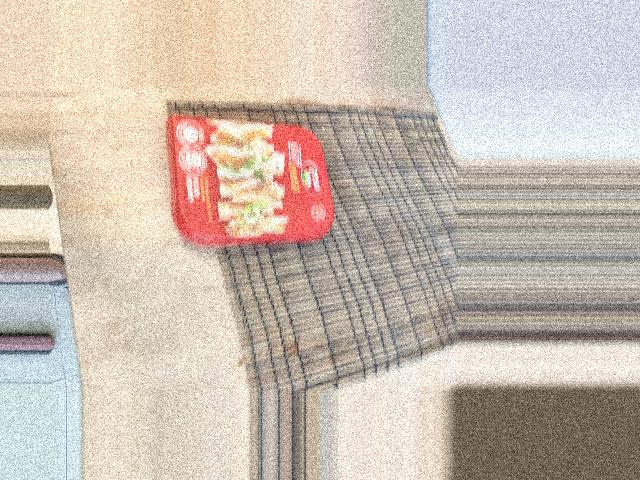cheese: (183, 200, 308, 389)
